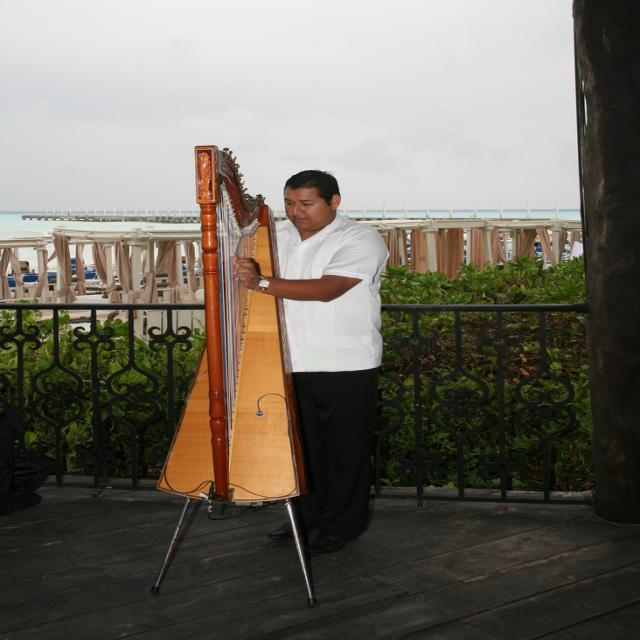harp: (153, 145, 306, 504)
